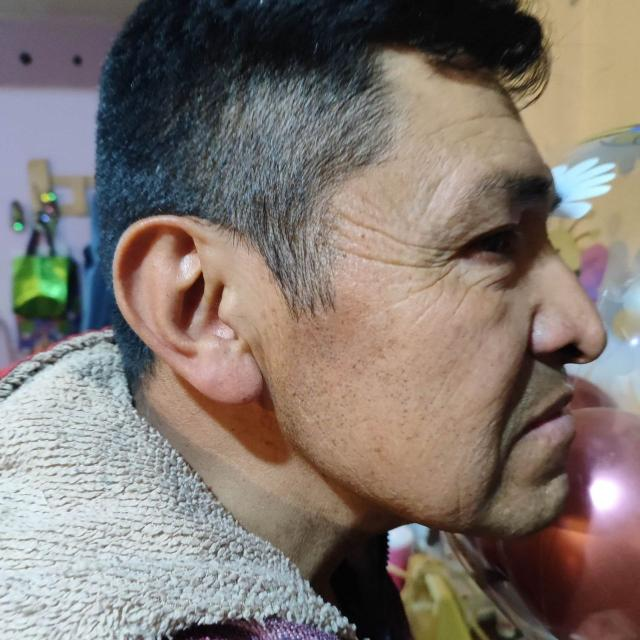ear: (116, 218, 262, 404)
